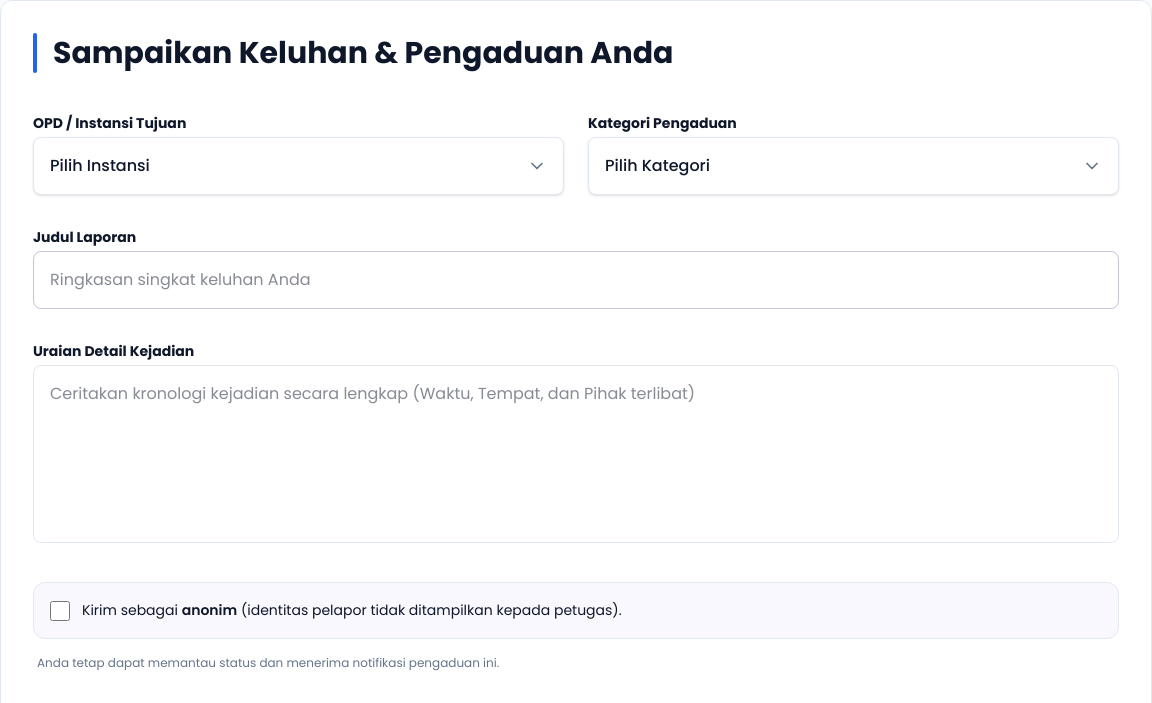
it: CreateComplaintForm — tujuan belum diketahui › menawarkan pilihan "Lainnya (belum tahu tujuannya)"
Expected: the text "Pilih Instansi" is shown, [50, 154, 150, 178]
Step 1. Click the button named "opd / instansi tujuan" → (100, 166), box [33, 137, 564, 195]
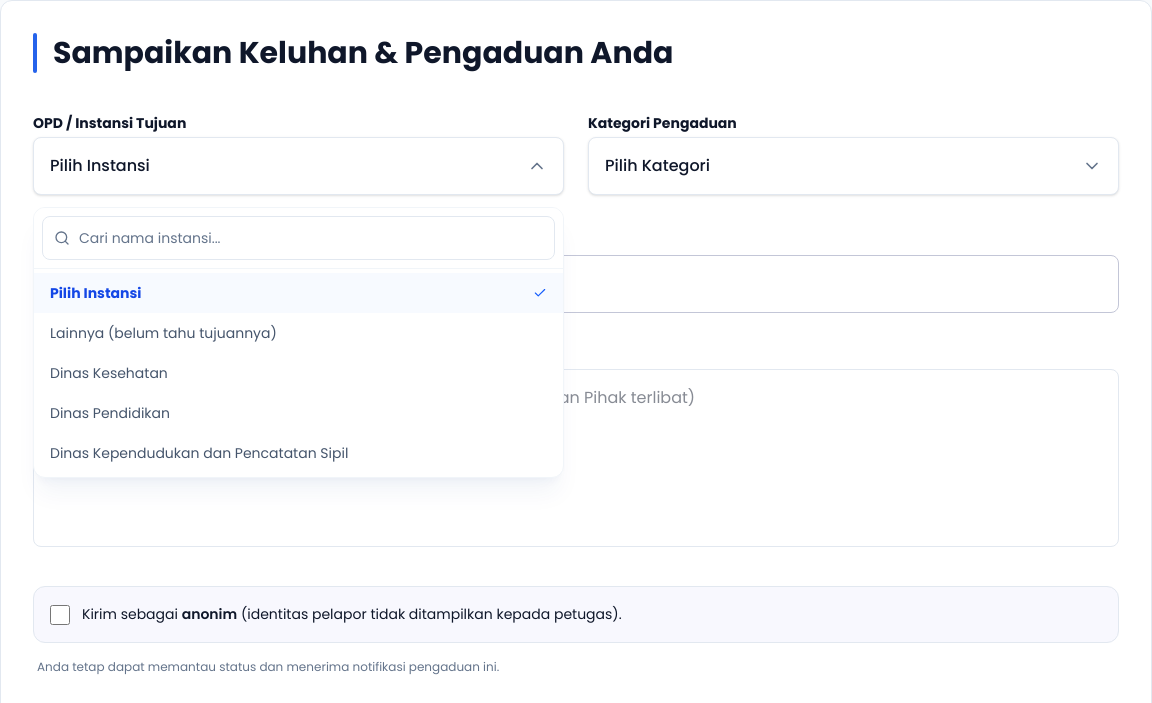
Expected: the text "Lainnya (belum tahu tujuannya)" is shown, [50, 323, 277, 343]
